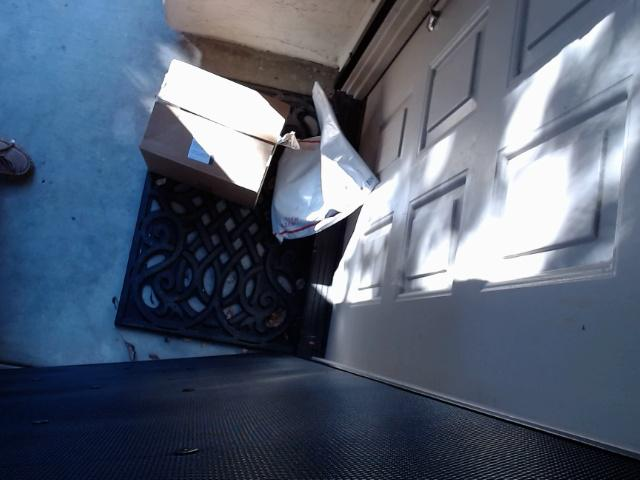box: (139, 58, 291, 210)
plastic_bag: (272, 81, 380, 242)
